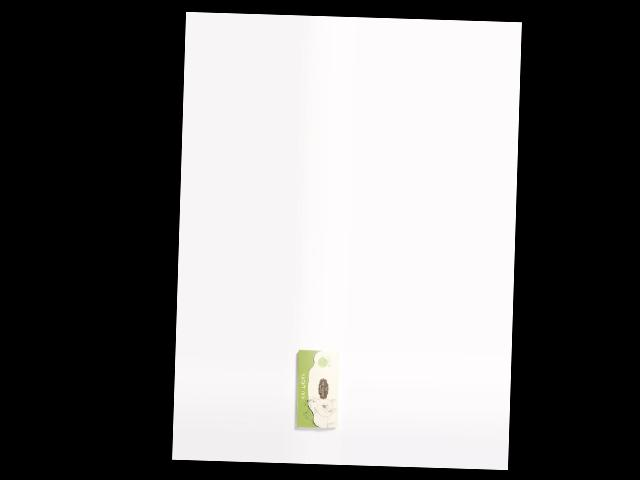chocolate: (294, 348, 340, 429)
